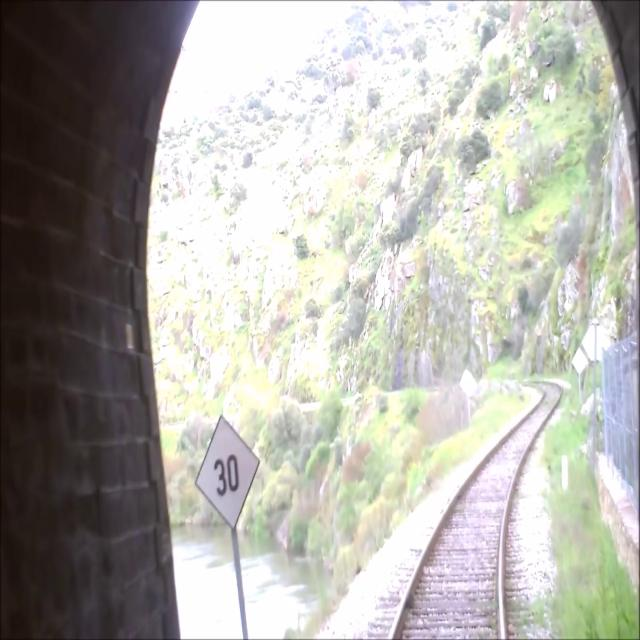rail-track: (393, 385, 559, 639)
